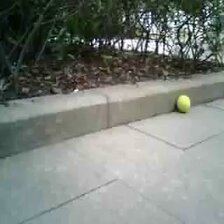tennis: (176, 94, 190, 112)
